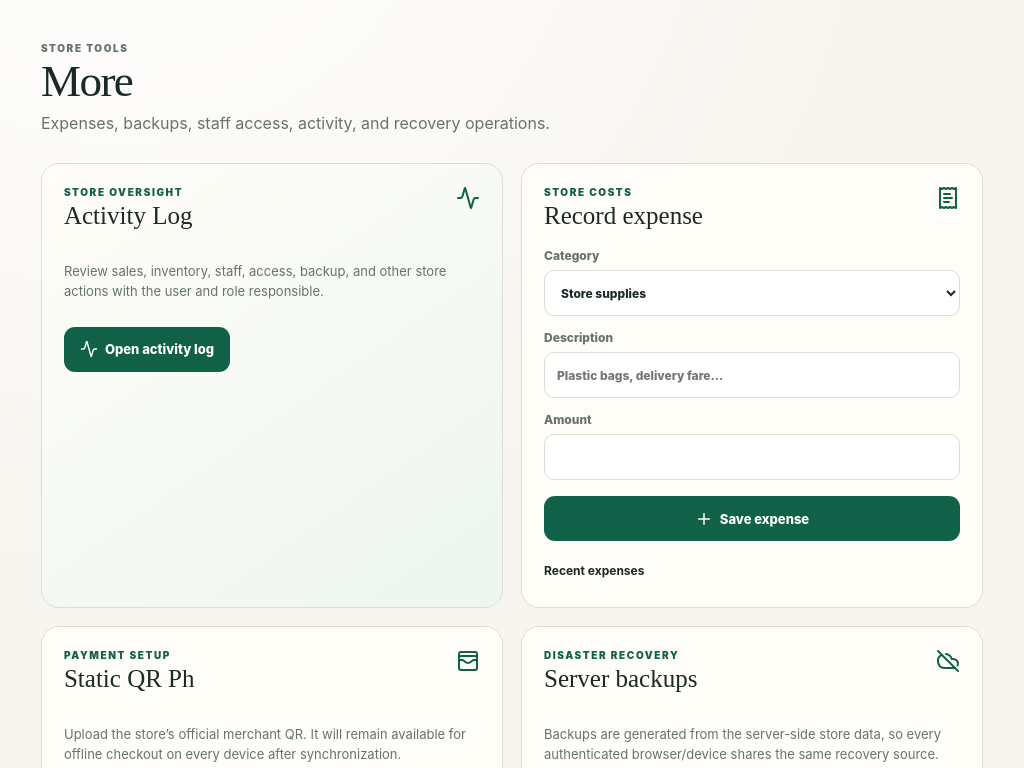
it: Activity log UI and cache › opens from More for a manager and renders confirmed actor and role
The width and height of the screenshot is (1024, 768).
Click the button "Open activity log" at (147, 349), box [64,327,230,372]
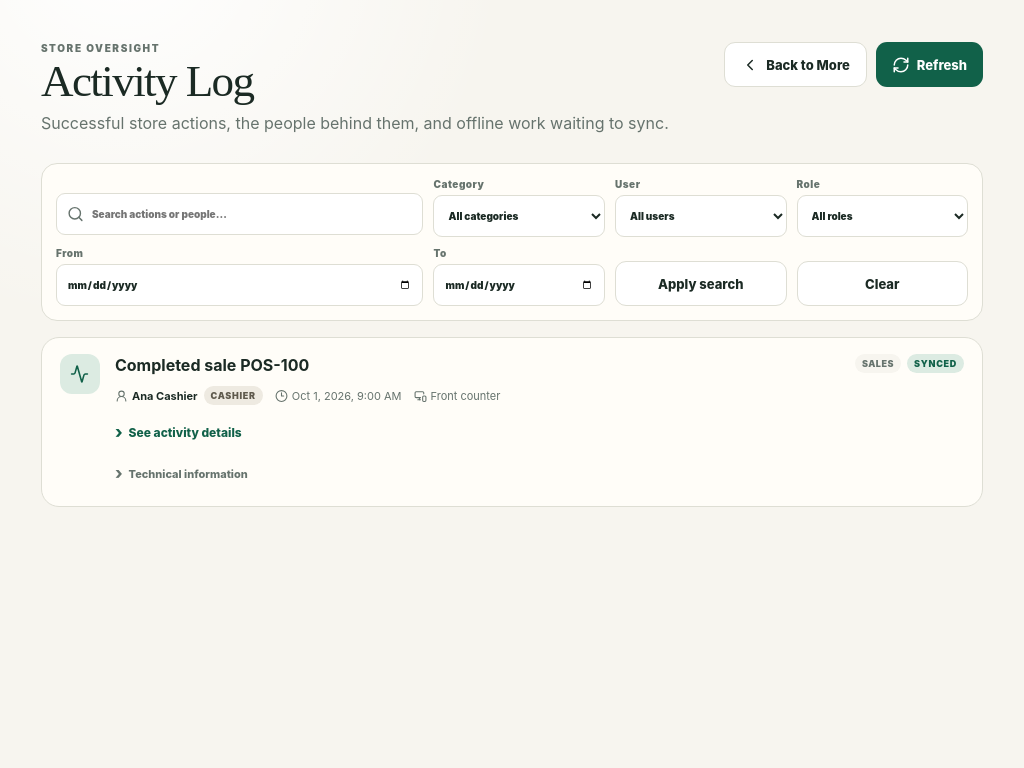
Check: the text "Completed sale POS-100" is shown, box [115,354,309,377]
Check: the text "Ana Cashier" is shown 2 times
Check: the text "Cashier" is shown, box [204,386,263,405]
